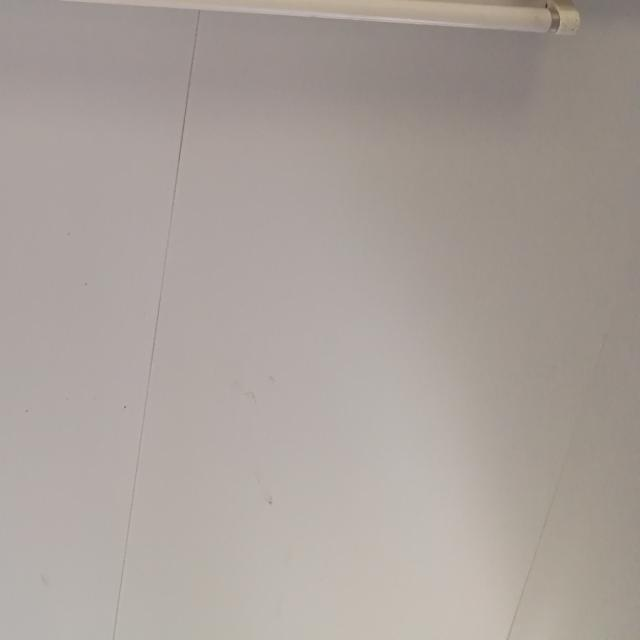fluorescent tube: (0, 0, 628, 68)
